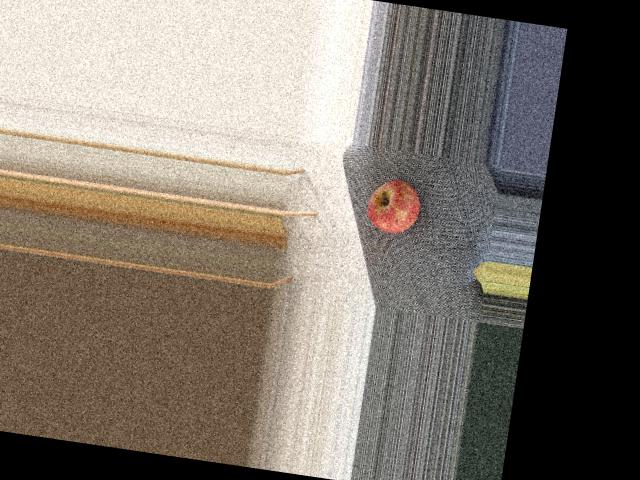apple: (361, 172, 428, 238)
